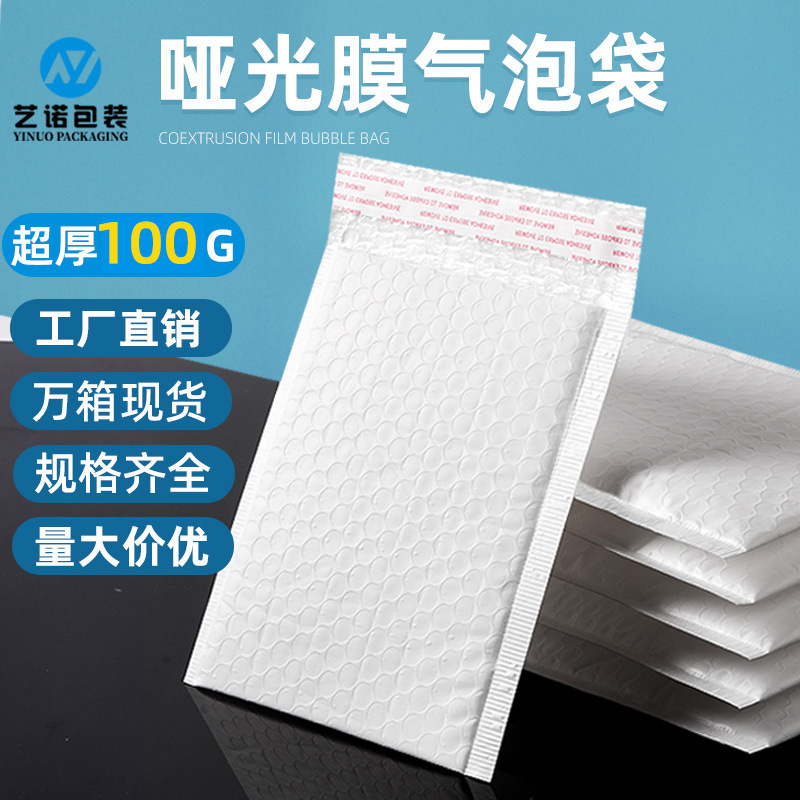Parcel: (184, 123, 800, 800)
